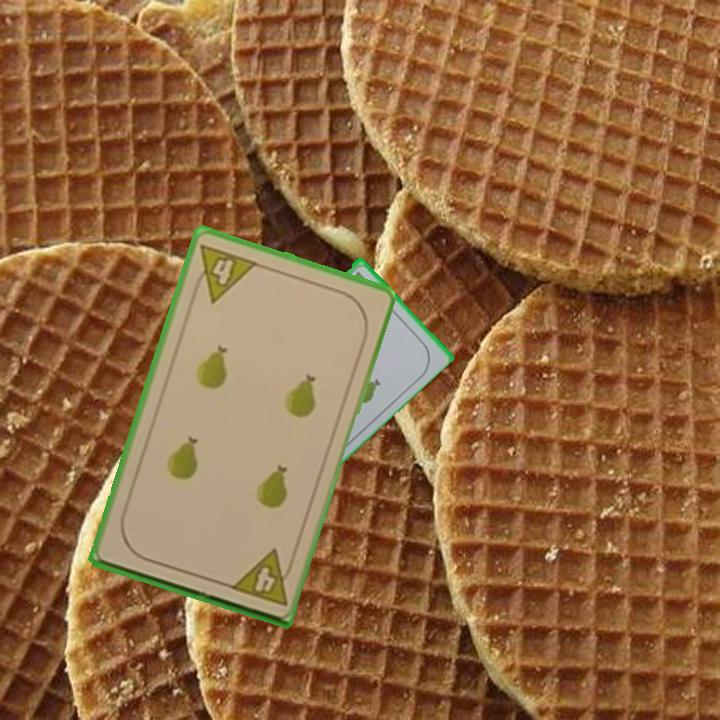4p: (187, 240, 261, 306), (226, 546, 298, 609)
